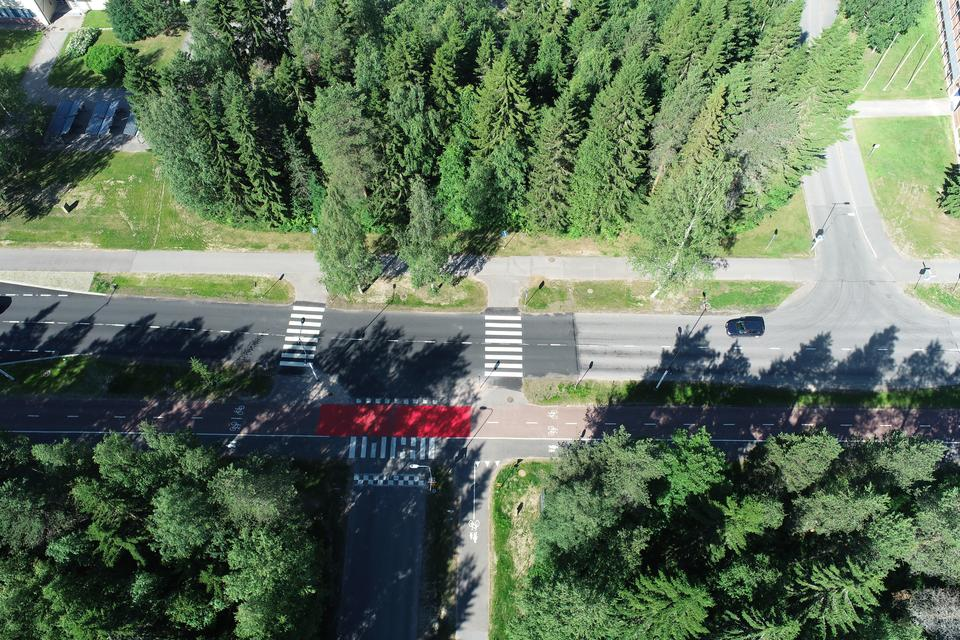intersection: (276, 423, 490, 496), (448, 261, 553, 409), (257, 257, 347, 398)
